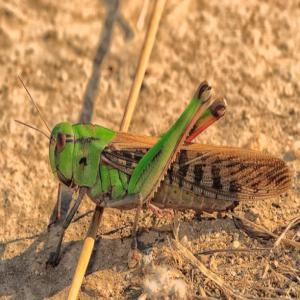locust: (26, 97, 299, 245)
